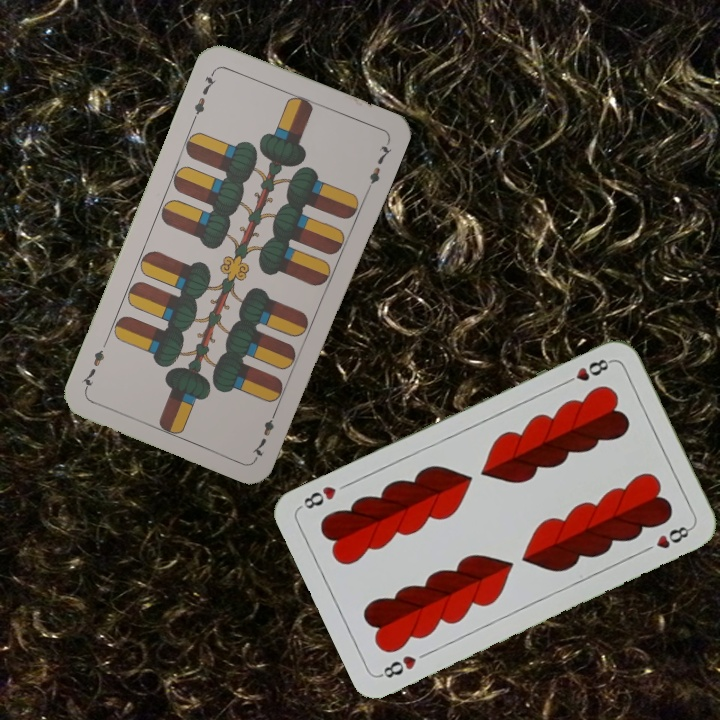E7: (248, 404, 281, 461), (189, 66, 218, 123)
H8: (558, 354, 614, 388), (376, 651, 419, 681)
